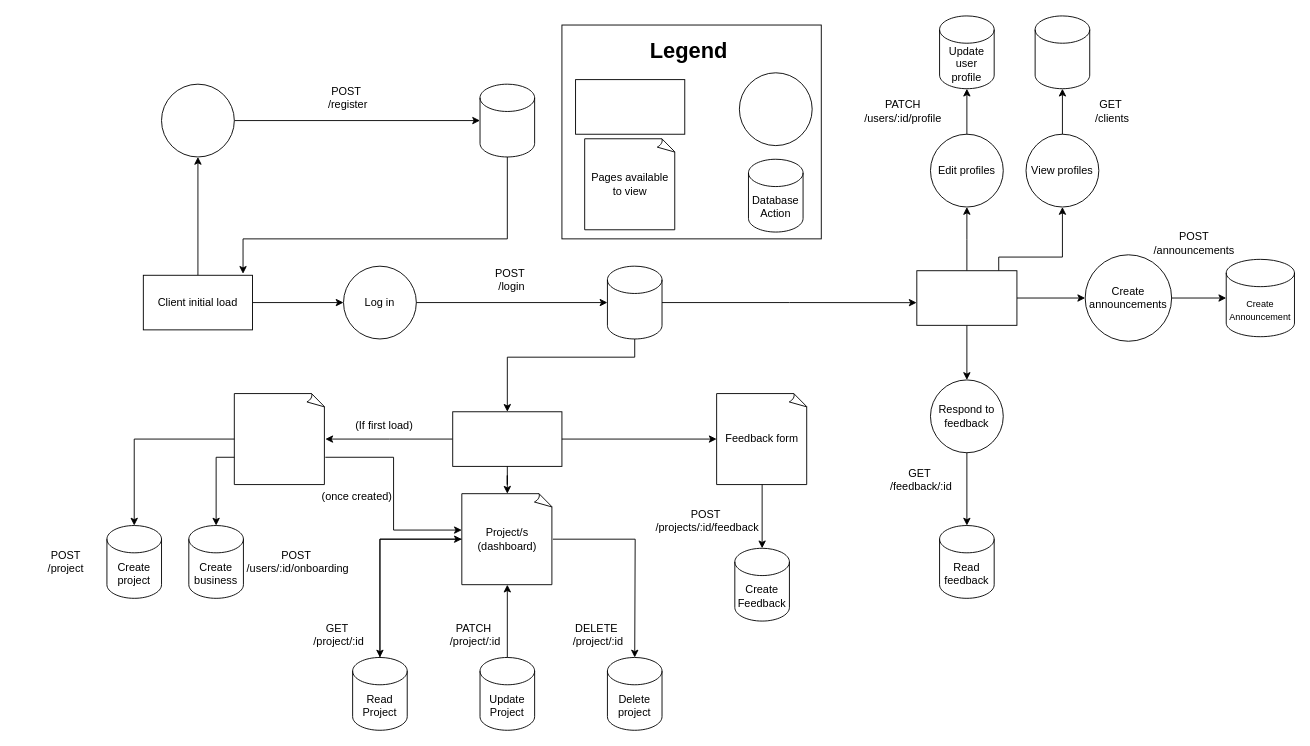
This 1310x746 diagram has some shape labels left out. The shapes that lost their labels are listed below. From the top down, each one's centre as x and y in pixels, then its label:
point 1062,52: Read user profiles
point 197,120: Create Account
point 507,120: Add account
point 630,106: Result of API response
point 775,109: User Action
point 634,302: Verify user
point 966,297: Verified as admin
point 279,439: Onboarding/Portal registration form
point 507,438: Verified as client
